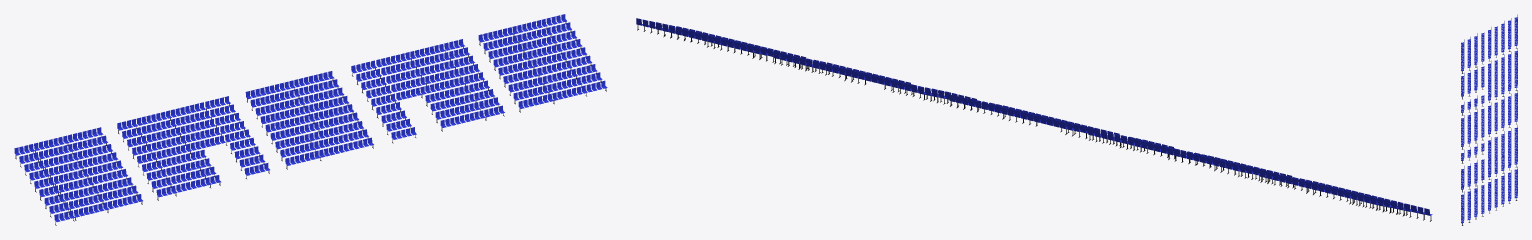
The model's file is Stand_A_Chairs.FBX.
3 views of the same model, side by side, from view 1: azimuth 30°, elevation 25°; view 2: azimuth 150°, elevation 25°; view 3: azimuth 270°, elevation 25° (orthographic). The views are drawn at different scales.
Visible parts, largest first — view 1: Stand_A_Chair_48, Stand_A_Chair_31, Stand_A_Chair_08, Stand_A_Chair_51, Stand_A_Chair_49, Stand_A_Chair_56, Stand_A_Chair_52, Stand_A_Chair_05, Stand_A_Chair_57, Stand_A_Chair_02, Stand_A_Chair_32, Stand_A_Chair_23 (+39 smaller); view 2: Stand_A_Chair_48, Stand_A_Chair_49; view 3: Stand_A_Chair_09, Stand_A_Chair_03, Stand_A_Chair_06, Stand_A_Chair_57, Stand_A_Chair_56, Stand_A_Chair_19, Stand_A_Chair_11, Stand_A_Chair_23, Stand_A_Chair_48, Stand_A_Chair_36, Stand_A_Chair_35, Stand_A_Chair_32 (+41 smaller).
Boxes of the visible parts, x1,y1,x2,y2 form: Stand_A_Chair_48: (478, 27, 523, 62); Stand_A_Chair_31: (275, 134, 320, 169); Stand_A_Chair_08: (64, 185, 109, 220); Stand_A_Chair_51: (493, 52, 538, 87); Stand_A_Chair_49: (512, 19, 557, 52); Stand_A_Chair_56: (508, 77, 553, 112); Stand_A_Chair_52: (527, 43, 572, 77); Stand_A_Chair_05: (49, 160, 93, 194); Stand_A_Chair_57: (542, 69, 587, 104); Stand_A_Chair_02: (34, 135, 79, 169); Stand_A_Chair_32: (309, 125, 354, 160); Stand_A_Chair_23: (260, 80, 305, 112); Stand_A_Chair_48: (708, 35, 768, 61); Stand_A_Chair_49: (662, 24, 721, 50); Stand_A_Chair_09: (1461, 50, 1477, 73); Stand_A_Chair_03: (1501, 32, 1517, 54); Stand_A_Chair_06: (1481, 44, 1497, 64); Stand_A_Chair_57: (1461, 196, 1477, 218); Stand_A_Chair_56: (1461, 185, 1477, 205); Stand_A_Chair_19: (1461, 73, 1477, 95); Stand_A_Chair_11: (1501, 54, 1517, 74); Stand_A_Chair_23: (1501, 95, 1517, 115); Stand_A_Chair_48: (1501, 166, 1517, 186); Stand_A_Chair_36: (1501, 144, 1517, 164); Stand_A_Chair_35: (1501, 133, 1517, 153); Stand_A_Chair_32: (1461, 120, 1477, 140).
Bounding box in the file's own units: 62066 × 5052 × 8257.
